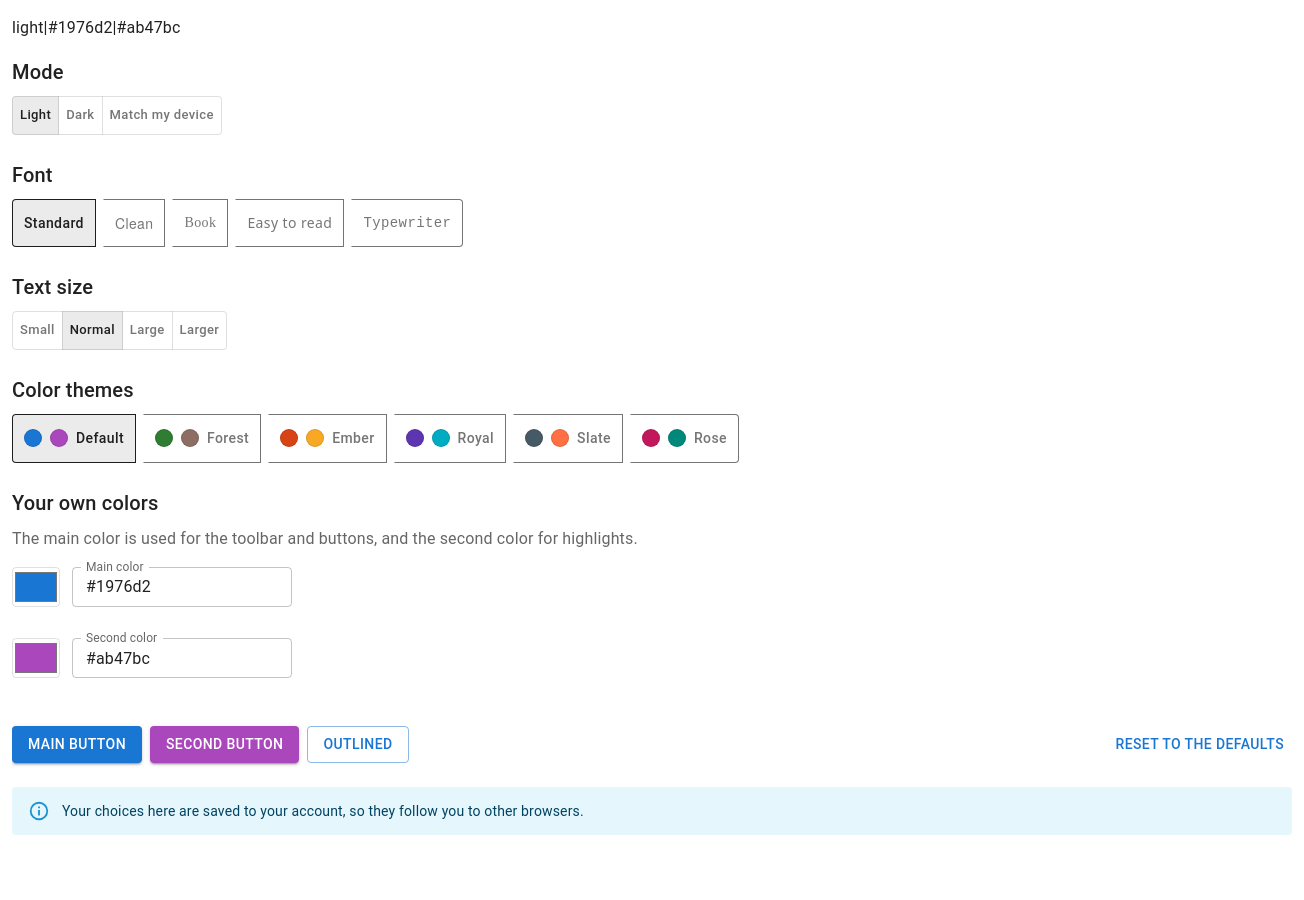
Test: your own colors › takes a color from the color chooser
Type "#c2185b" into the colour field named "Main color chooser".
click(36, 586); type("#c2185b")  # box [12,566,60,606]
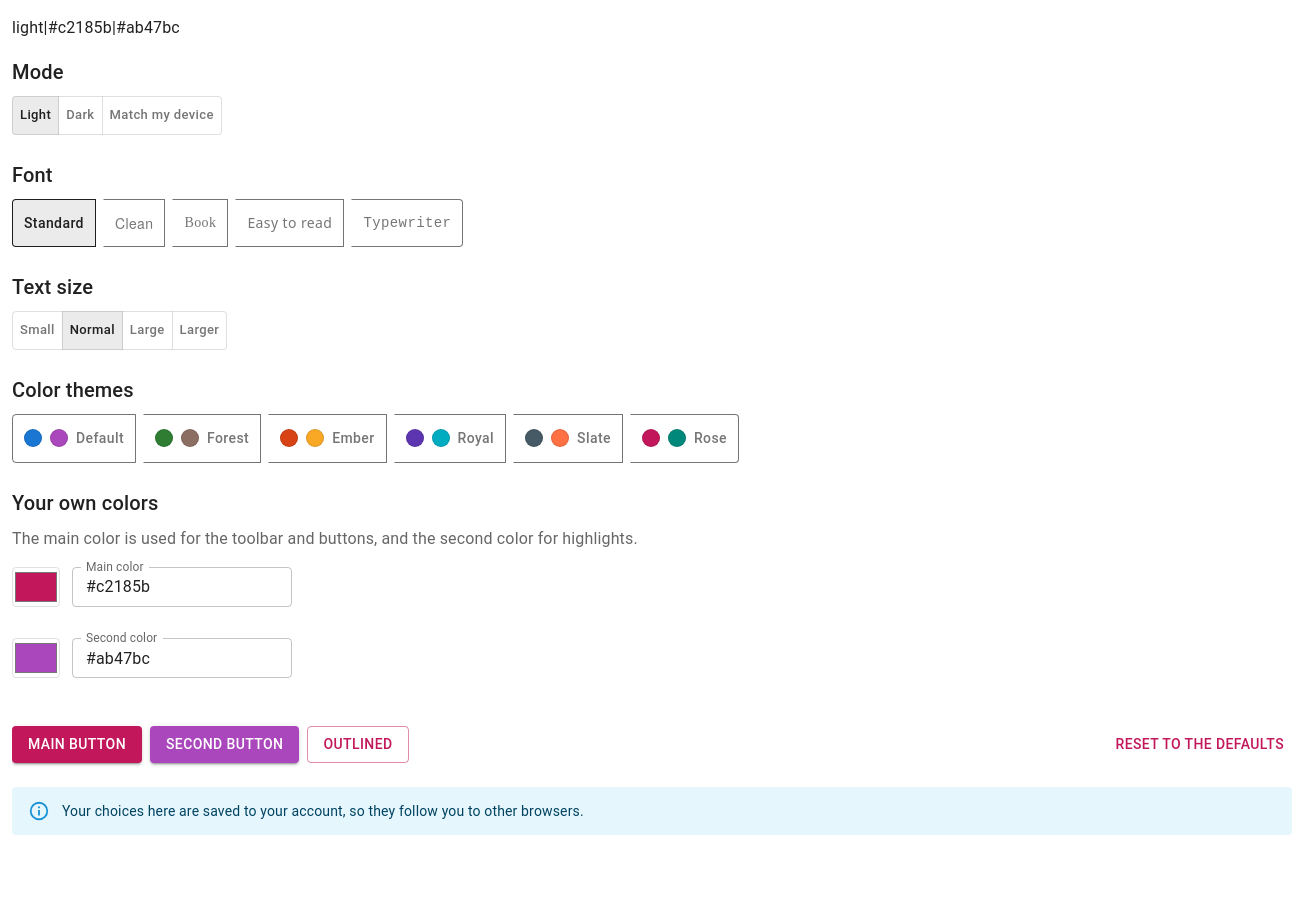
Expected: the text with test id "probe" reads "light|#c2185b|#ab47bc", [12,18,44,37]
Expected: the field labelled "Main color" holds "#c2185b", [72,566,292,606]
